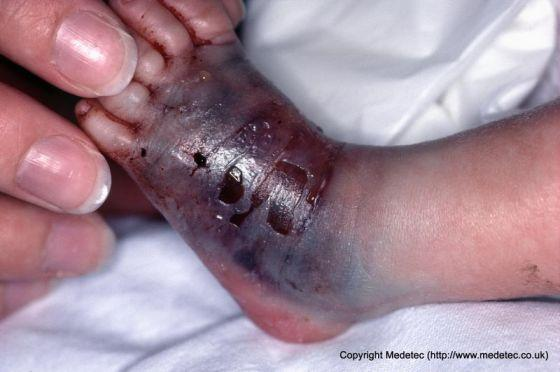NonPU: (128, 68, 347, 324)
